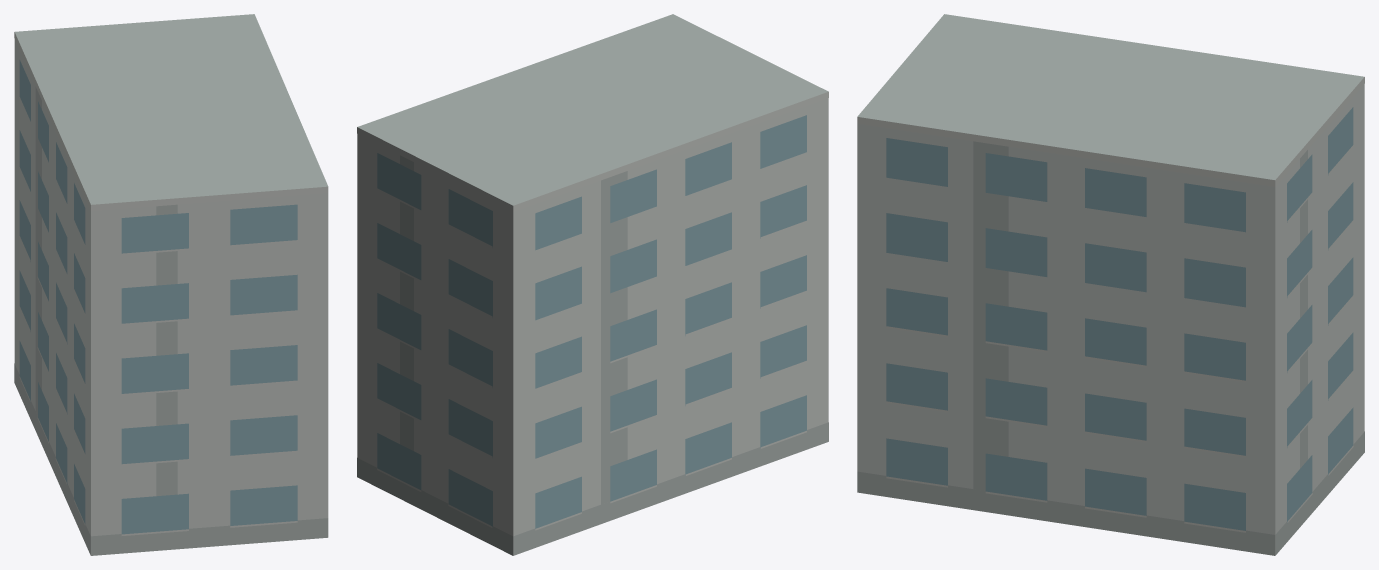
File: survey-upis-32991900.glb
The picture shows the model from 3 angles, left to right: view 1: azimuth 30°, elevation 25°; view 2: azimuth 150°, elevation 25°; view 3: azimuth 270°, elevation 25°; orthographic projection. The views are drawn at different scales.
Visible parts, largest first — view 1: survey-upis-32991900.tmp; view 2: survey-upis-32991900.tmp; view 3: survey-upis-32991900.tmp.
Boxes of the visible parts, box(x1,y1,x2,y2) form: survey-upis-32991900.tmp: box(14, 14, 328, 555); survey-upis-32991900.tmp: box(357, 14, 828, 555); survey-upis-32991900.tmp: box(857, 14, 1364, 555).
Bounding box in the file's own units: 12.53 × 13.2 × 16.17.
